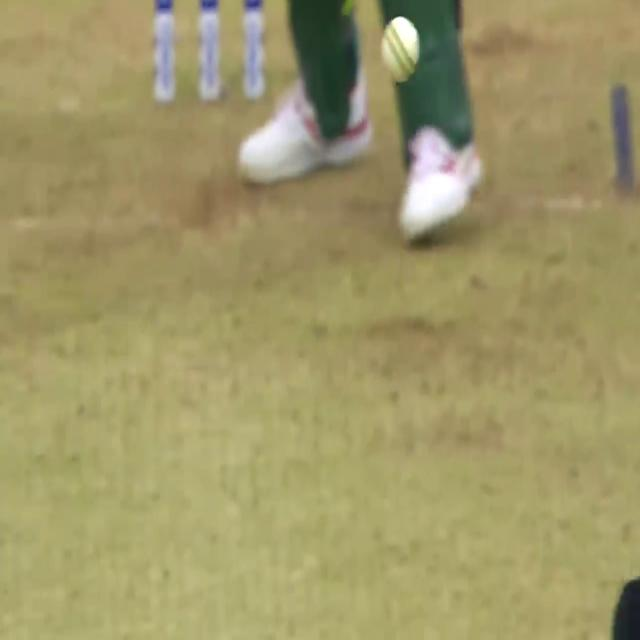ball: (378, 14, 422, 86)
